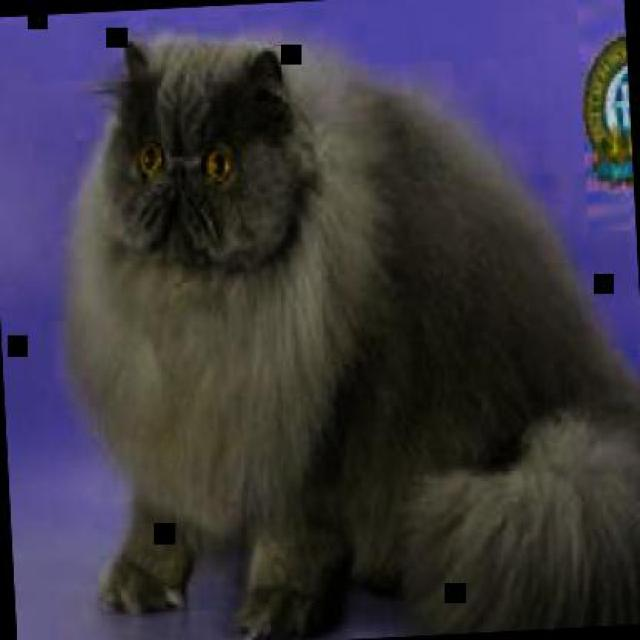cat: (49, 6, 638, 639)
